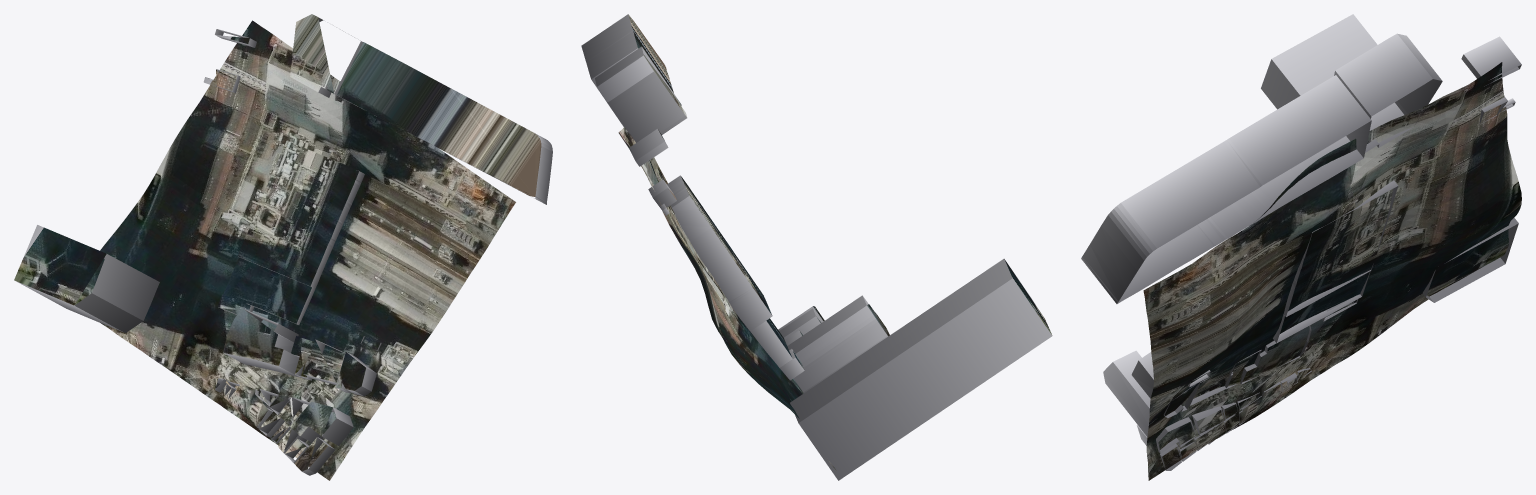
3 renders of one model, left to right at view 1: azimuth 30°, elevation 25°; view 2: azimuth 150°, elevation 25°; view 3: azimuth 270°, elevation 25°, orthographic. The views are drawn at different scales.
Size of the model in its own units: 398 by 310 by 249.
Materials: 1 (1 with a texture image).
